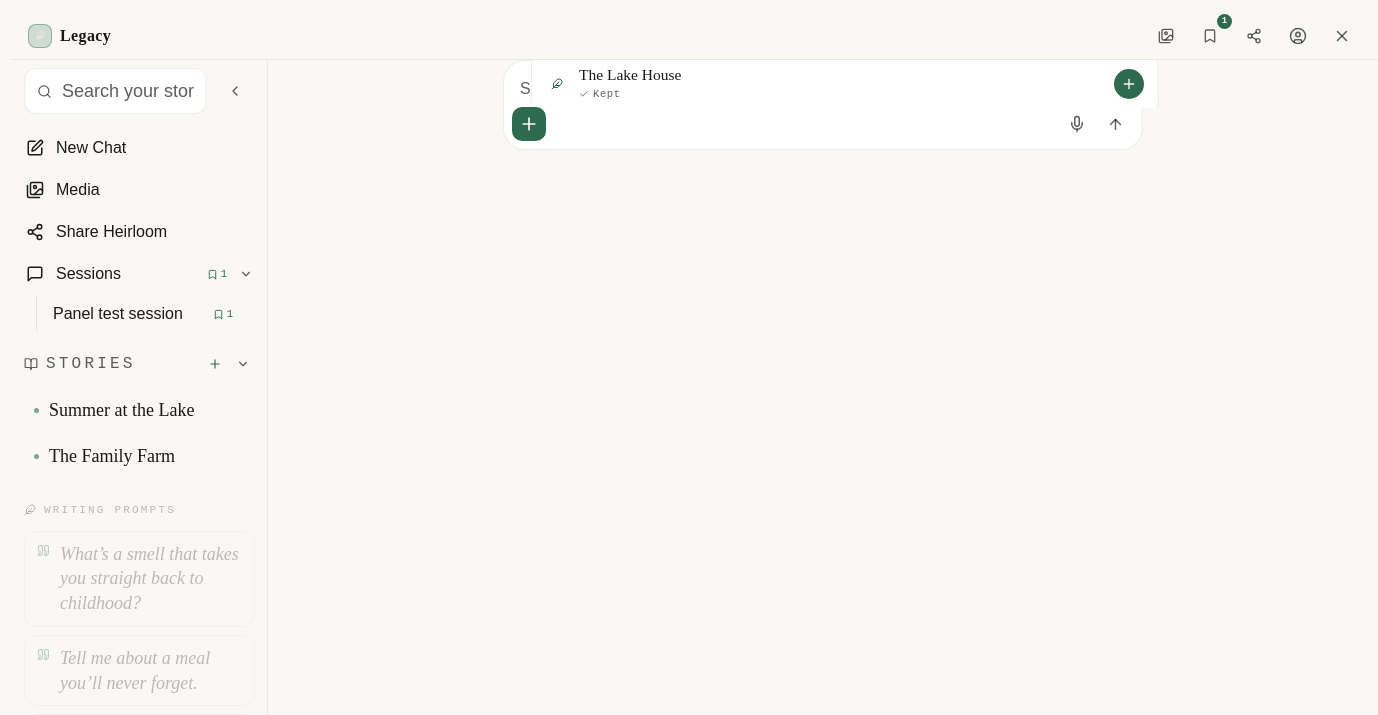
ChatHero — assign memory to story from the in-transcript receipt › a click elsewhere on the receipt row still opens the memory panel — the "+" is additive, not a replacement for it
(page scrolled)
Expected: the button "The Lake House Kept" is shown, [531,60,1159,108]
Click the button "The Lake House Kept". click: (630,75)
box: [531,53,1159,114]
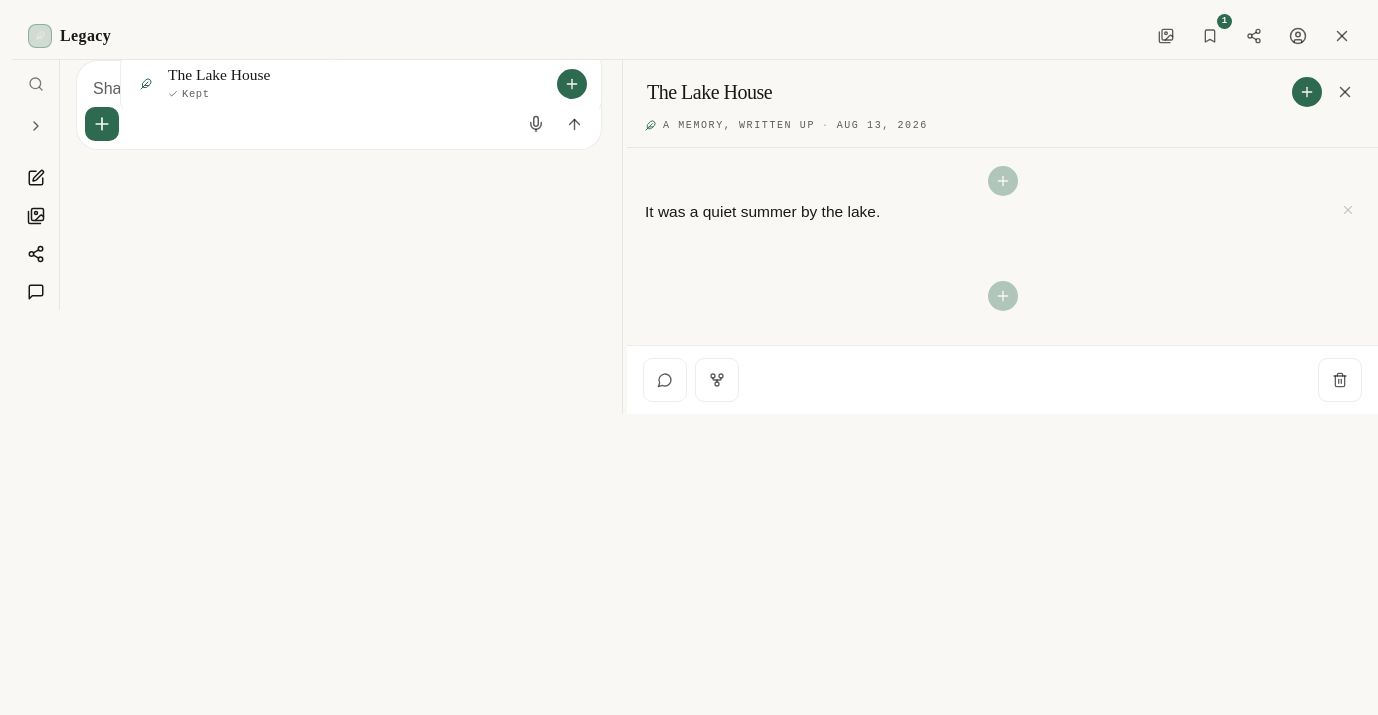
Expected: the field named "Memory title" holds "The Lake House", [645,74,1284,110]
